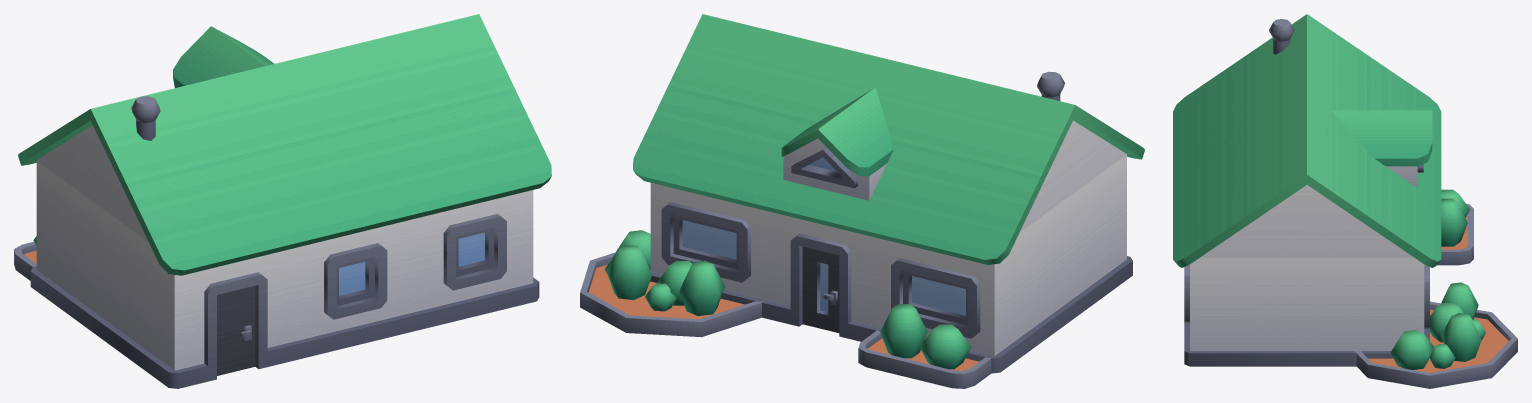
File: house_building_type_g.glb
The picture shows the model from 3 angles, left to right: view 1: azimuth 30°, elevation 25°; view 2: azimuth 150°, elevation 25°; view 3: azimuth 270°, elevation 25°; orthographic projection. The views are drawn at different scales.
Visible parts, largest first — view 1: building-type-g; view 2: building-type-g; view 3: building-type-g.
Boxes of the visible parts, x1,y1,x2,y2 form: building-type-g: [14, 14, 551, 388]; building-type-g: [580, 14, 1144, 388]; building-type-g: [1173, 14, 1517, 388].
Bounding box in the file's own units: 8.7 × 4.61 × 7.07.
1 material, 1 textured.
